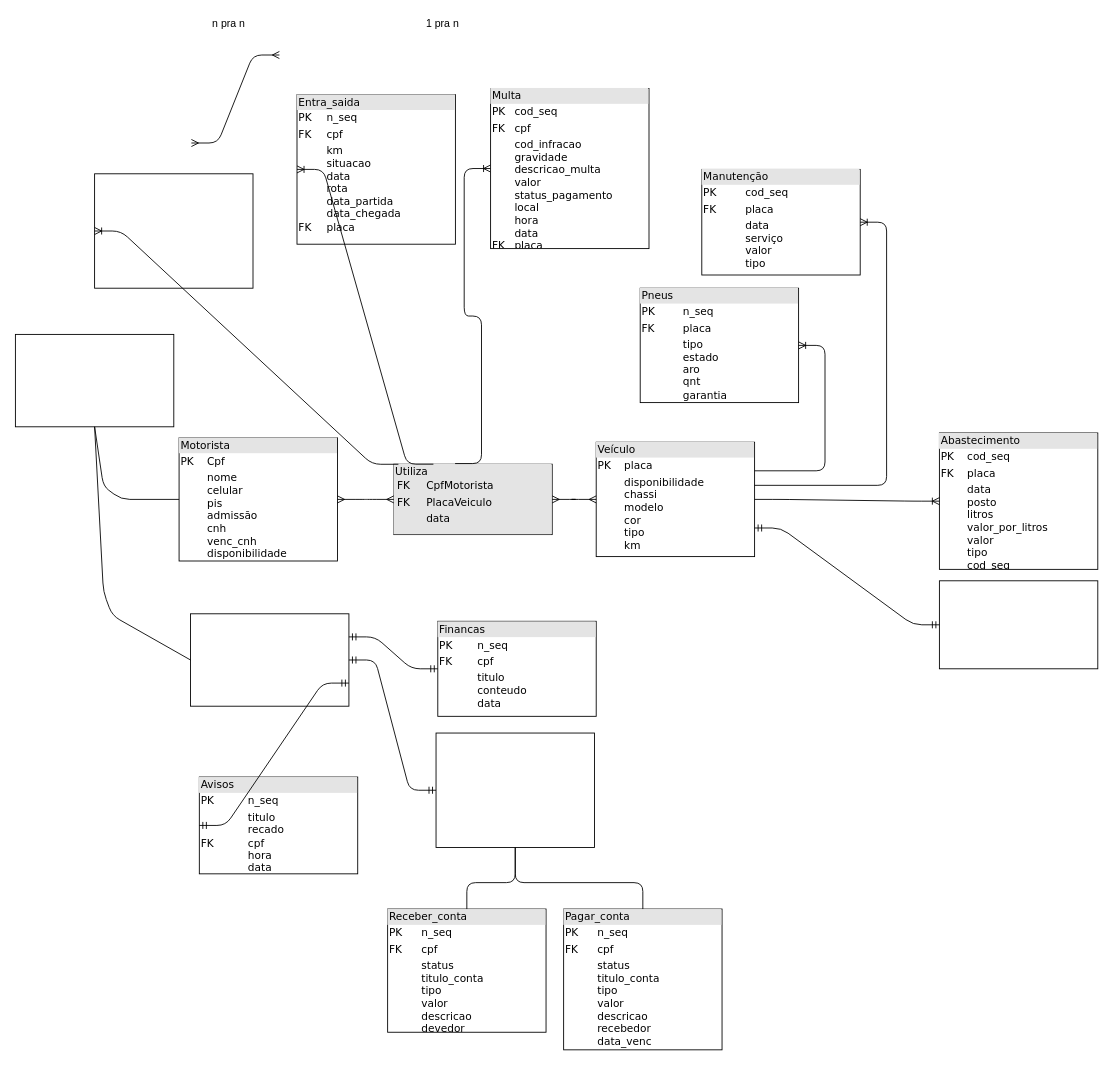
The diagram is 1113 pixels wide and 1065 high, and some of its shapes have lost their labels. The shapes that lost their labels are listed below. From the top down, each one's box as (x1, y1, x2, y2) in pixels, then its label:
(94, 173, 253, 288): Entra_saida PK n_seq FK cpf FK hora entrada_saida data placa
(15, 334, 174, 427): Funcionario PK Cpf nome celular pis admissão
(939, 580, 1098, 669): Seguros PK cod_seguro FK seguradora apolice placa desc_seguro
(190, 613, 349, 706): Gerente PK Cpf nome celular pis admissão
(435, 732, 594, 847): Financas PK n_seq FK cpf status titulo_conta tipo valor descricao
